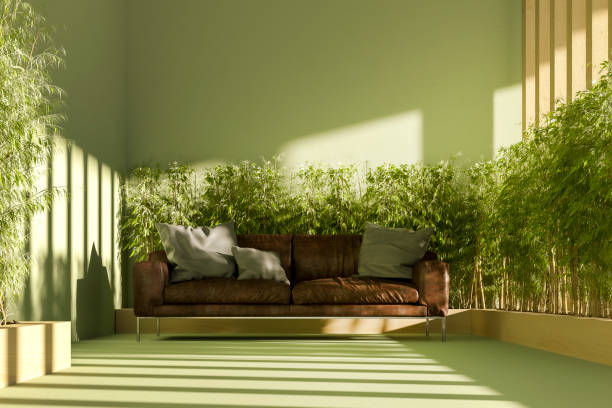sofa: (130, 221, 453, 345)
